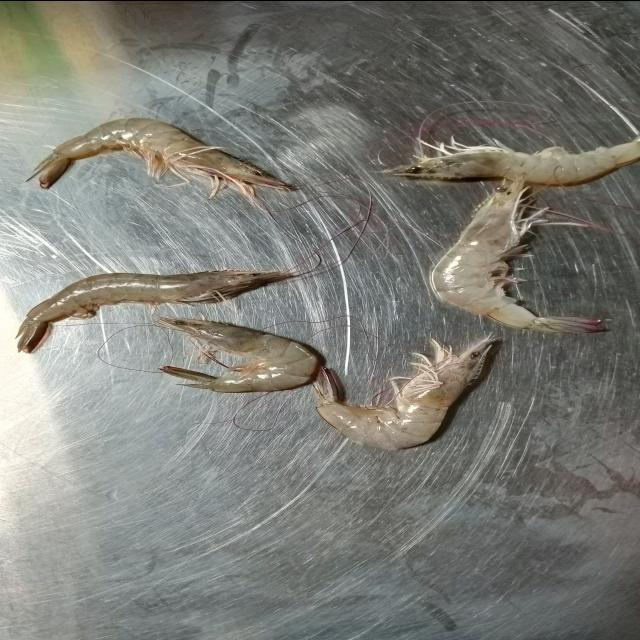shrimp: (432, 179, 604, 334), (18, 269, 292, 352), (31, 118, 292, 199), (314, 336, 494, 449), (383, 138, 640, 185), (157, 318, 319, 391)
